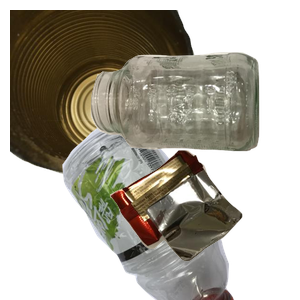glass: (88, 50, 300, 194)
metal: (10, 10, 200, 180)
plastic: (25, 120, 252, 300)
trash: (107, 148, 300, 300)
